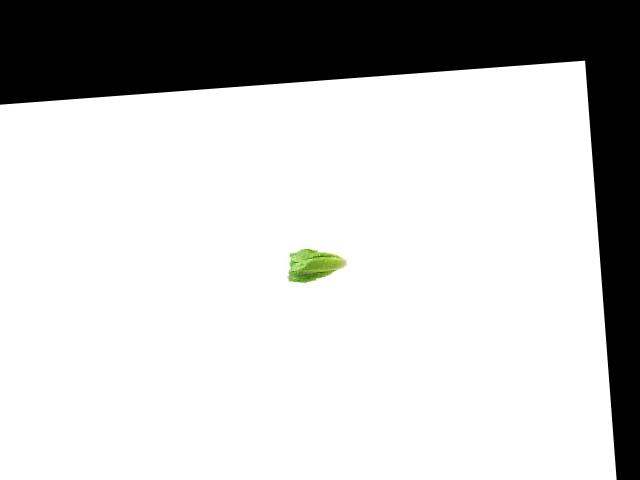lettuce: (283, 240, 350, 288)
